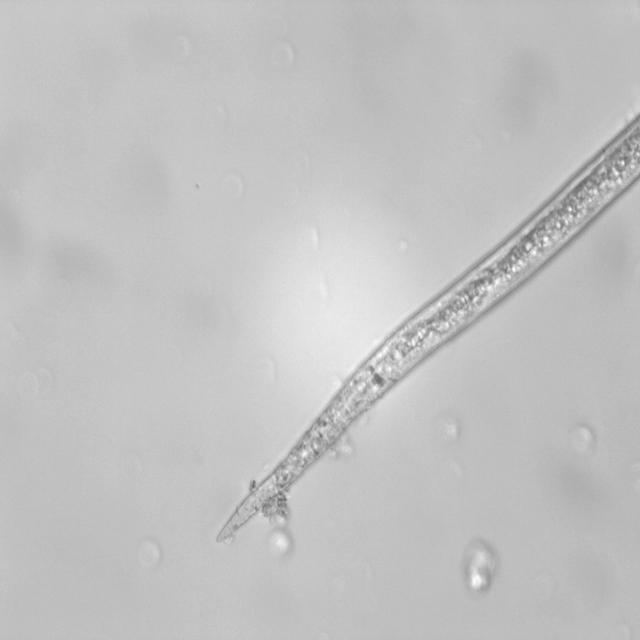Meloidogyne: (208, 87, 640, 568)
